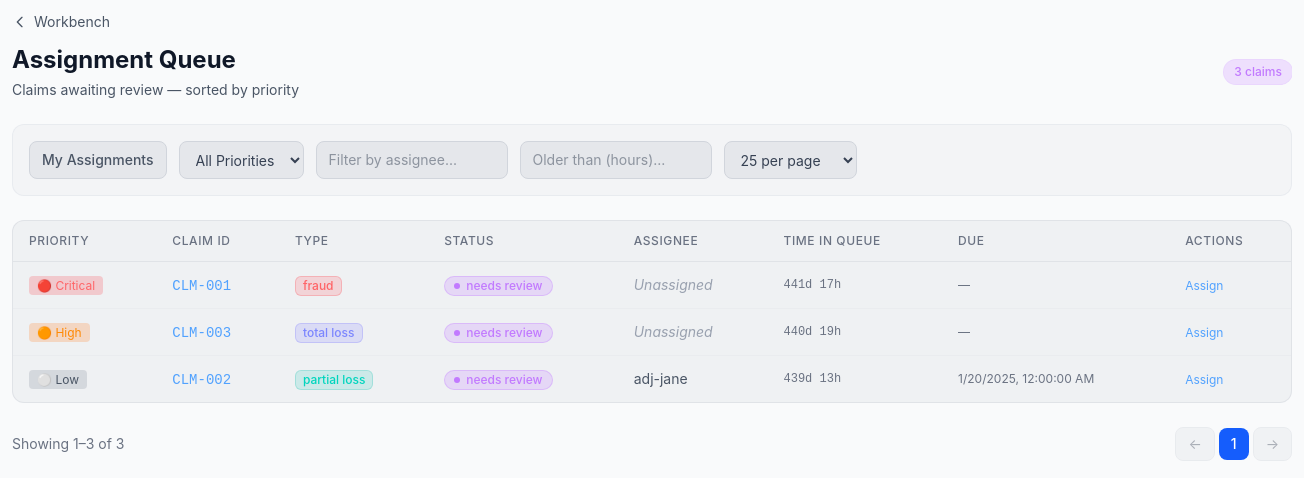
Test case: AssignmentQueue › toggles My Assignments filter on click
Step 1. Click the button "My Assignments" → {"x": 98, "y": 160}, box [29, 141, 166, 179]
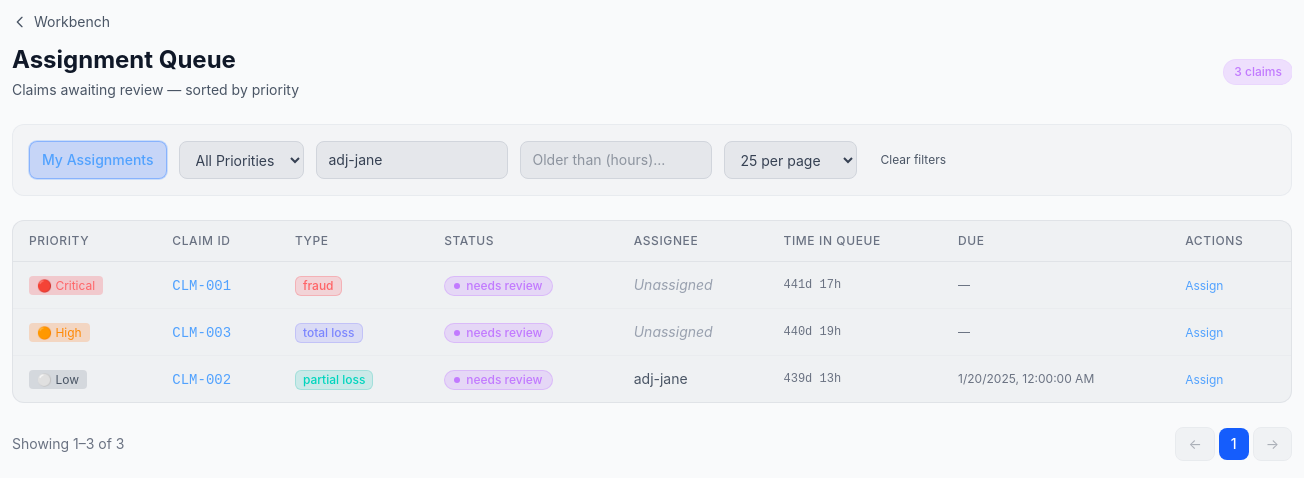
Expected: the field with placeholder "Filter by assignee..." holds "adj-jane", [316, 141, 508, 179]
